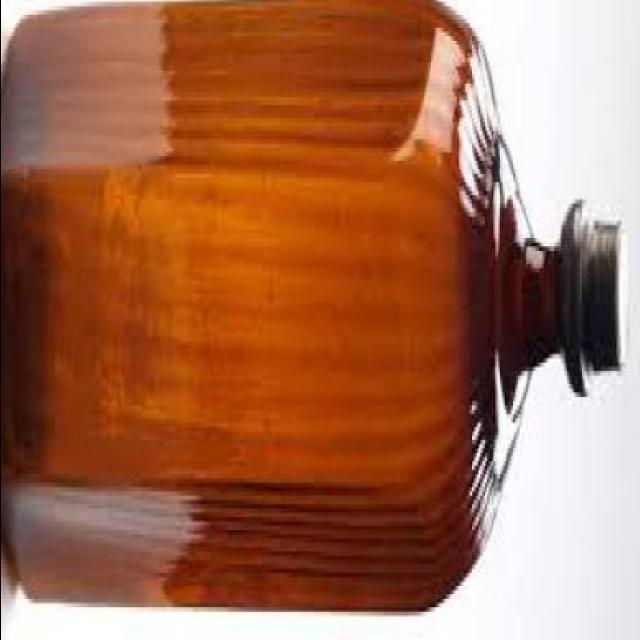kaca: (0, 0, 593, 607)
